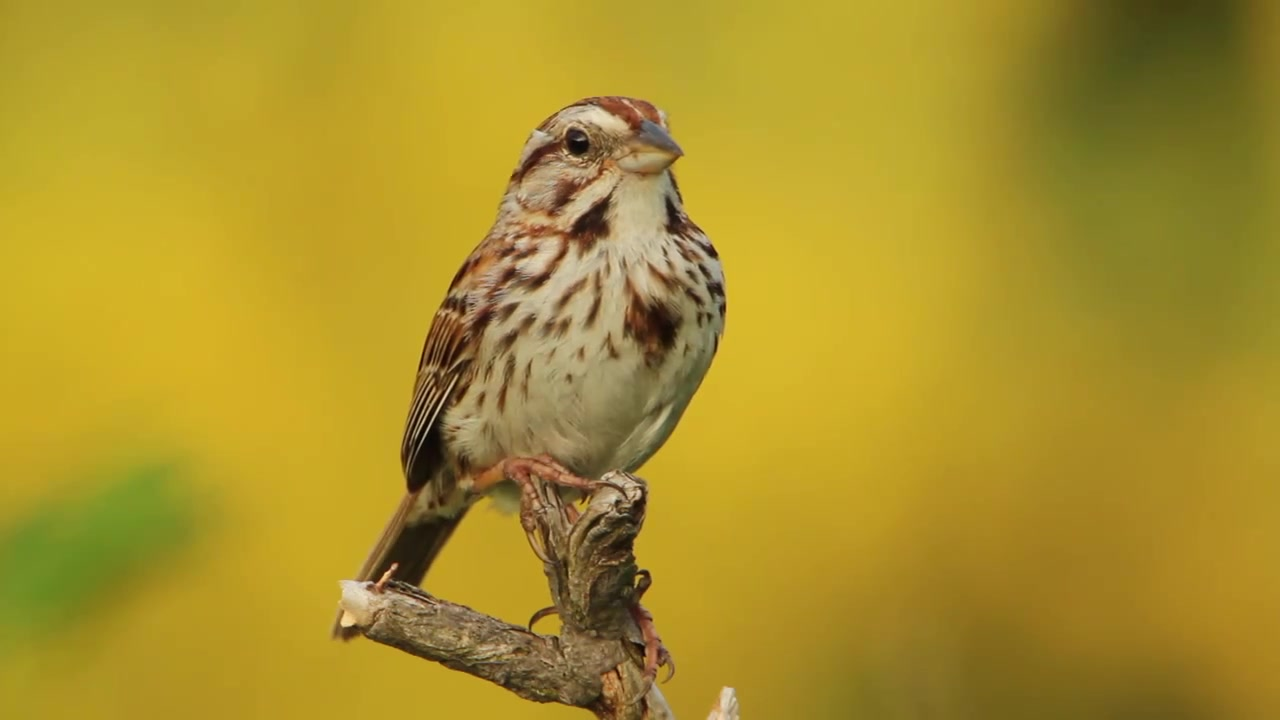bird: (329, 92, 732, 706)
